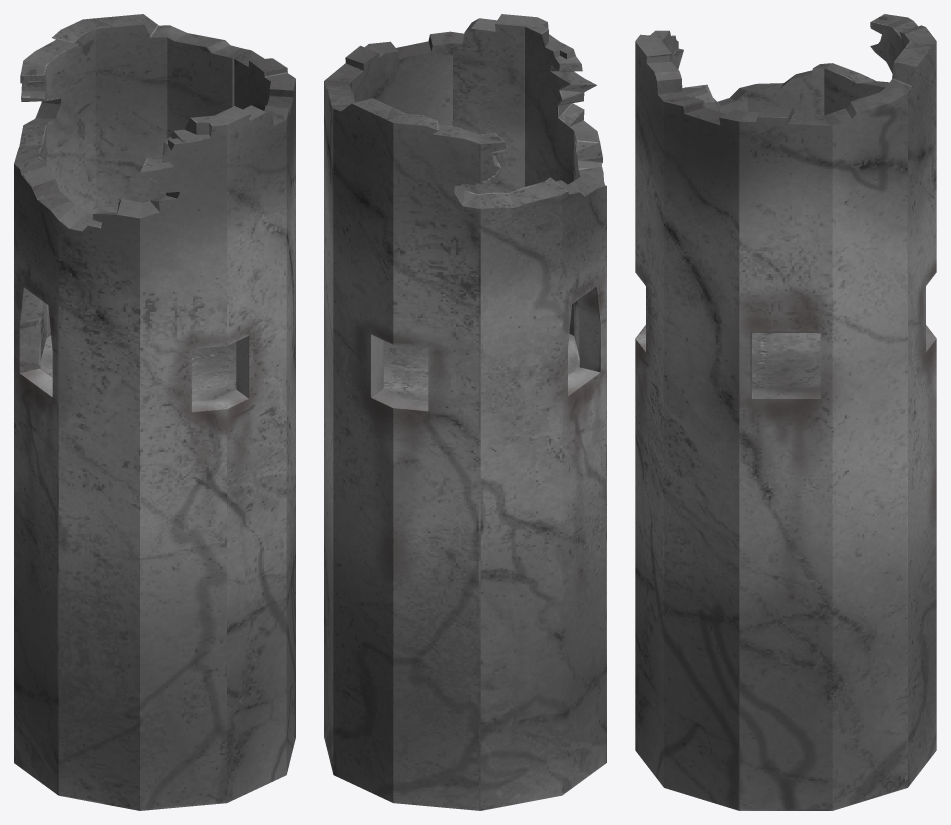
Rendered from brokentower_wt.fbx.
3 renders of one model, left to right at view 1: azimuth 30°, elevation 25°; view 2: azimuth 150°, elevation 25°; view 3: azimuth 270°, elevation 25°, orthographic. The views are drawn at different scales.
Parts seen in each view (by area): view 1: Cylinder.003; view 2: Cylinder.003; view 3: Cylinder.003.
Boxes of the visible parts, x1,y1,x2,y2 form: Cylinder.003: [14, 14, 295, 810]; Cylinder.003: [324, 14, 606, 810]; Cylinder.003: [635, 14, 936, 810].
Size of the model in its own units: 9695 by 26465 by 10194.
